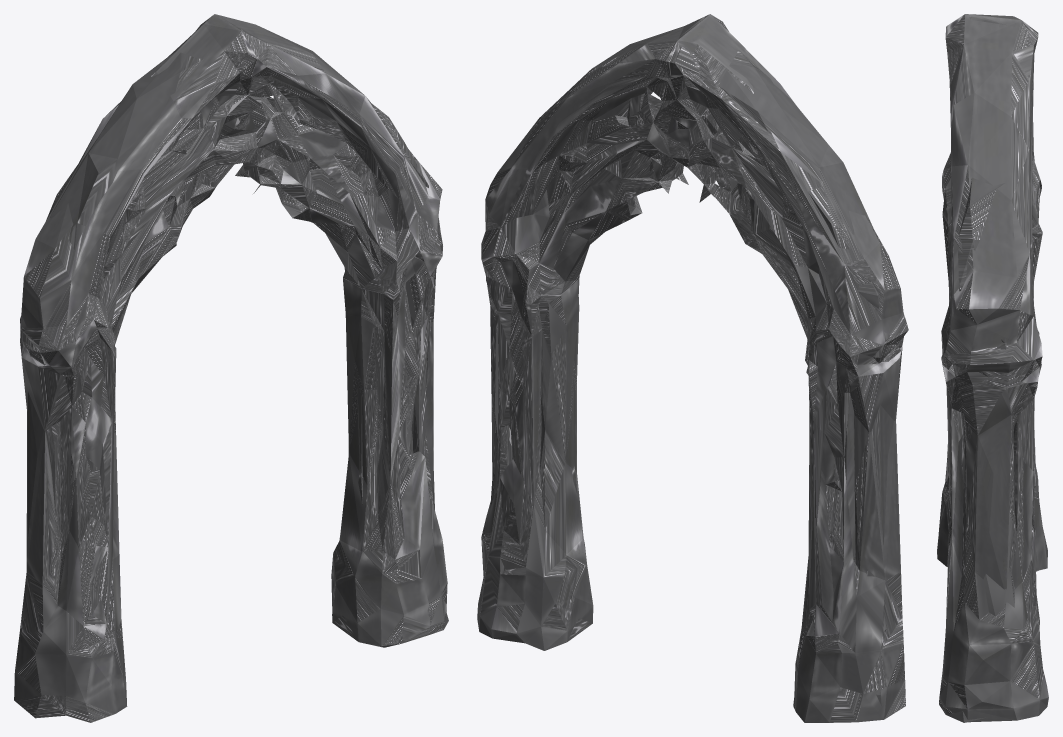
The model's file is gothic_arch.glb.
3 renders of one model, left to right at view 1: azimuth 30°, elevation 25°; view 2: azimuth 150°, elevation 25°; view 3: azimuth 270°, elevation 25°, orthographic. The views are drawn at different scales.
Parts seen in each view (by area): view 1: gothic_arch; view 2: gothic_arch; view 3: gothic_arch.
Boxes of the visible parts, x1,y1,x2,y2 form: gothic_arch: (14,14,448,722); gothic_arch: (477,14,908,722); gothic_arch: (937,14,1048,722).
Size of the model in its own units: 2.97 by 4.46 by 0.7316.
Materials: 1 (1 with a texture image).
